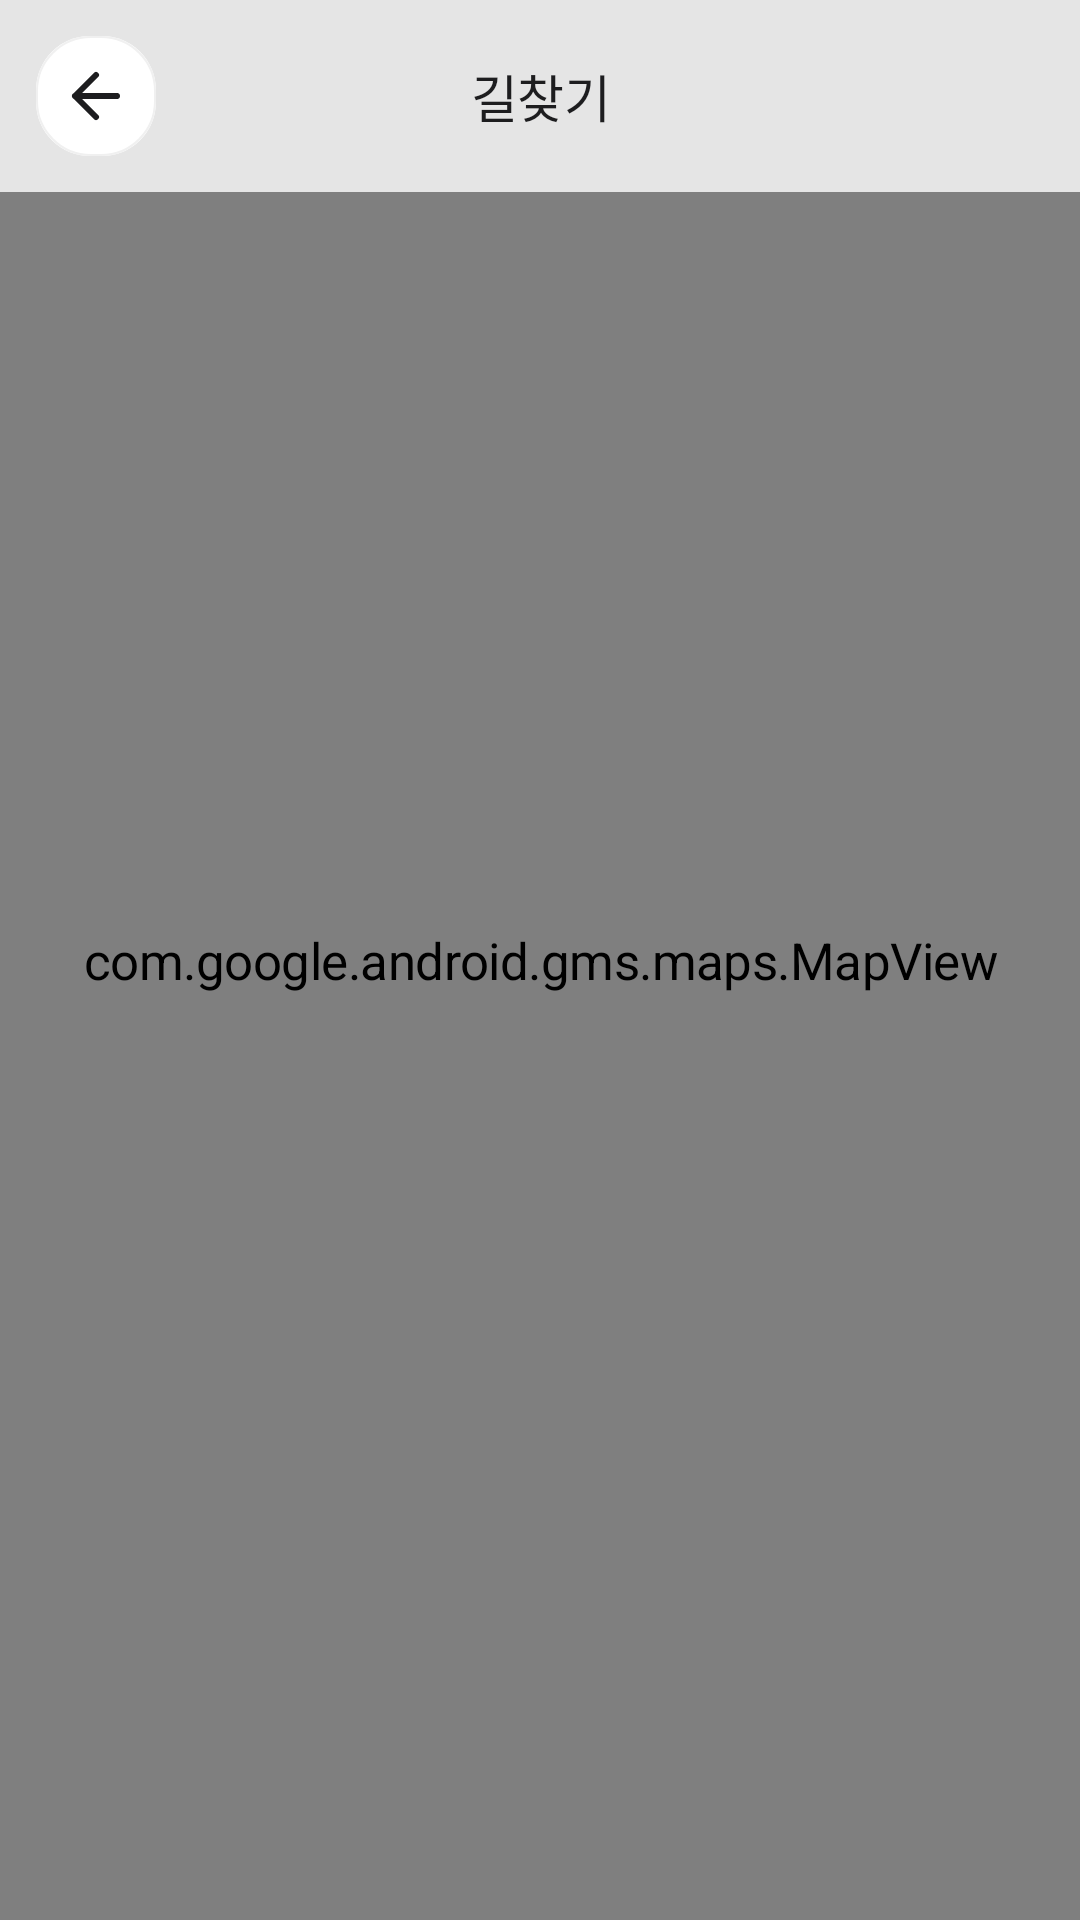

Icons on this 1080px×1920px Android screen, each with its box as (x1, y1, x2, y2):
뒤로가기: (38, 38, 154, 154)
